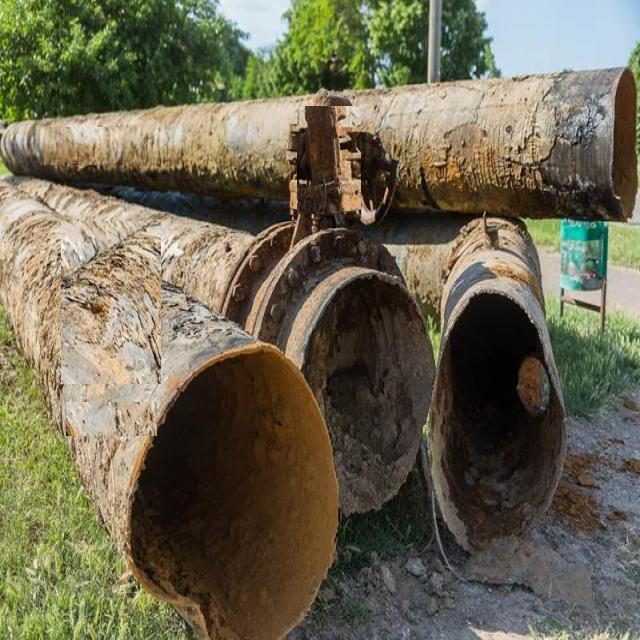Corrosion: (288, 92, 398, 244), (533, 68, 639, 220)
